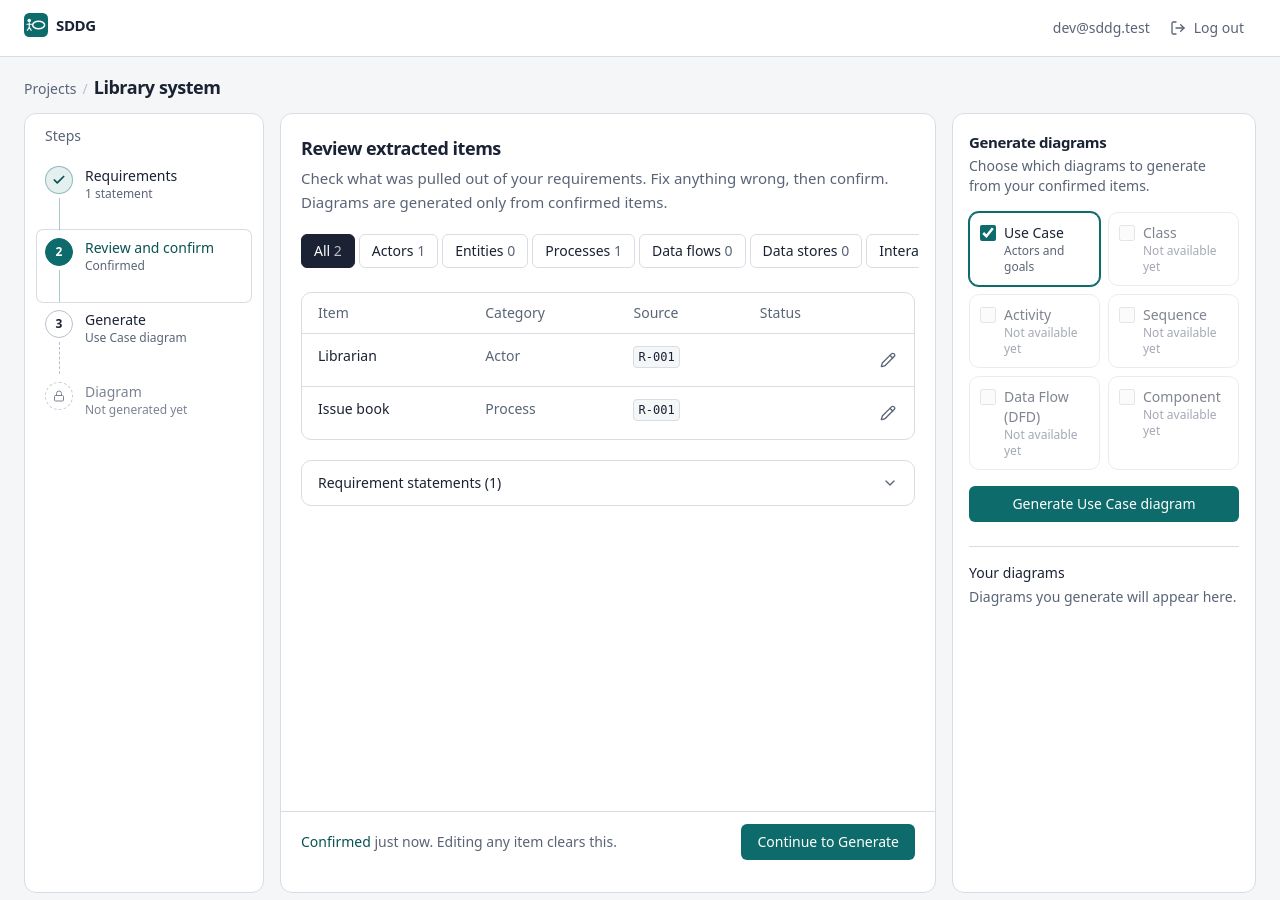
FR5b / FR5e review › editing an item marks it user-edited and clears the confirmation
Expected: the button "Continue to Generate" is shown, [741, 824, 915, 860]
Click the button named "Edit Librarian" at {"x": 888, "y": 360}, box [870, 342, 906, 378]
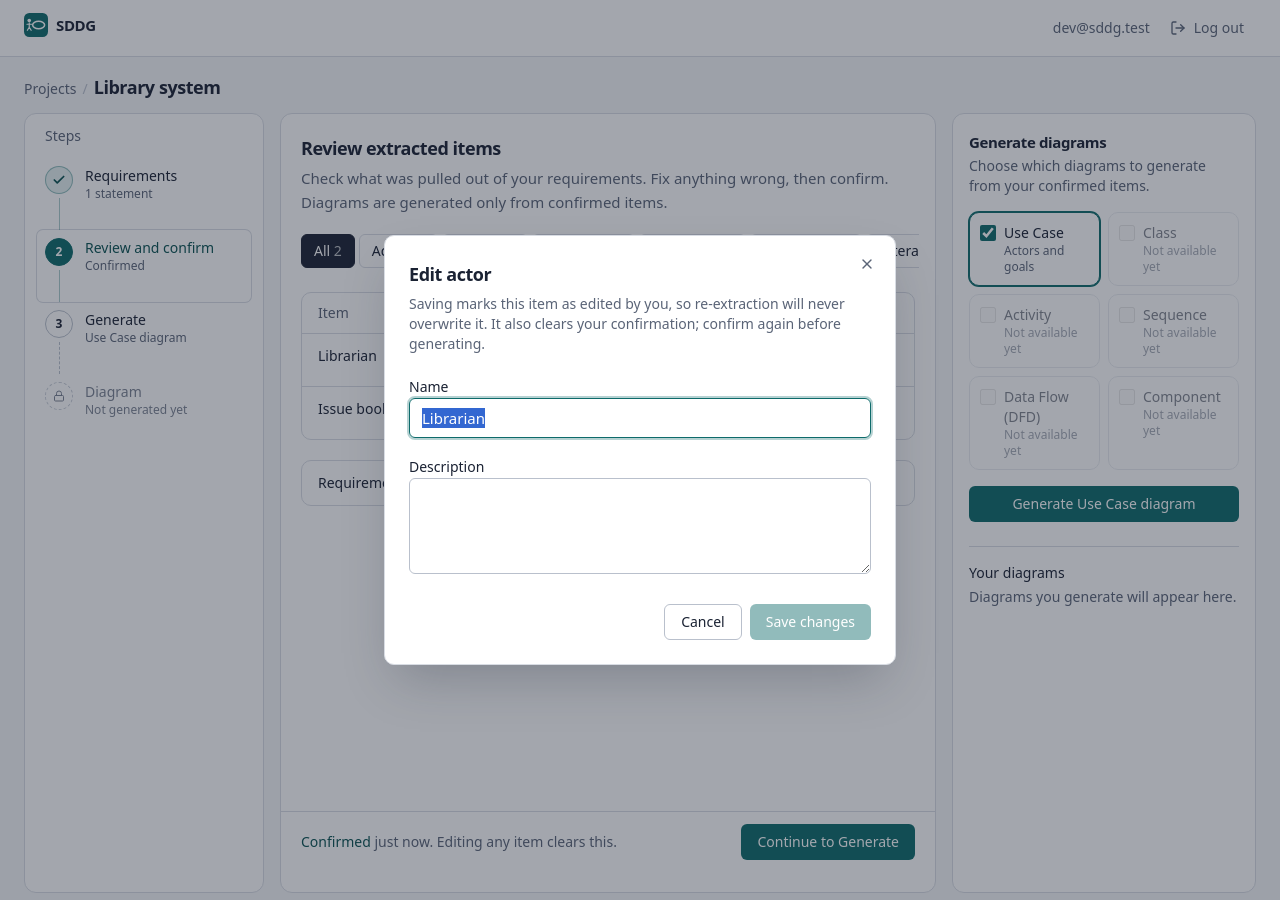
Clear the field labelled "Name" at {"x": 640, "y": 418}, box [409, 398, 871, 438]
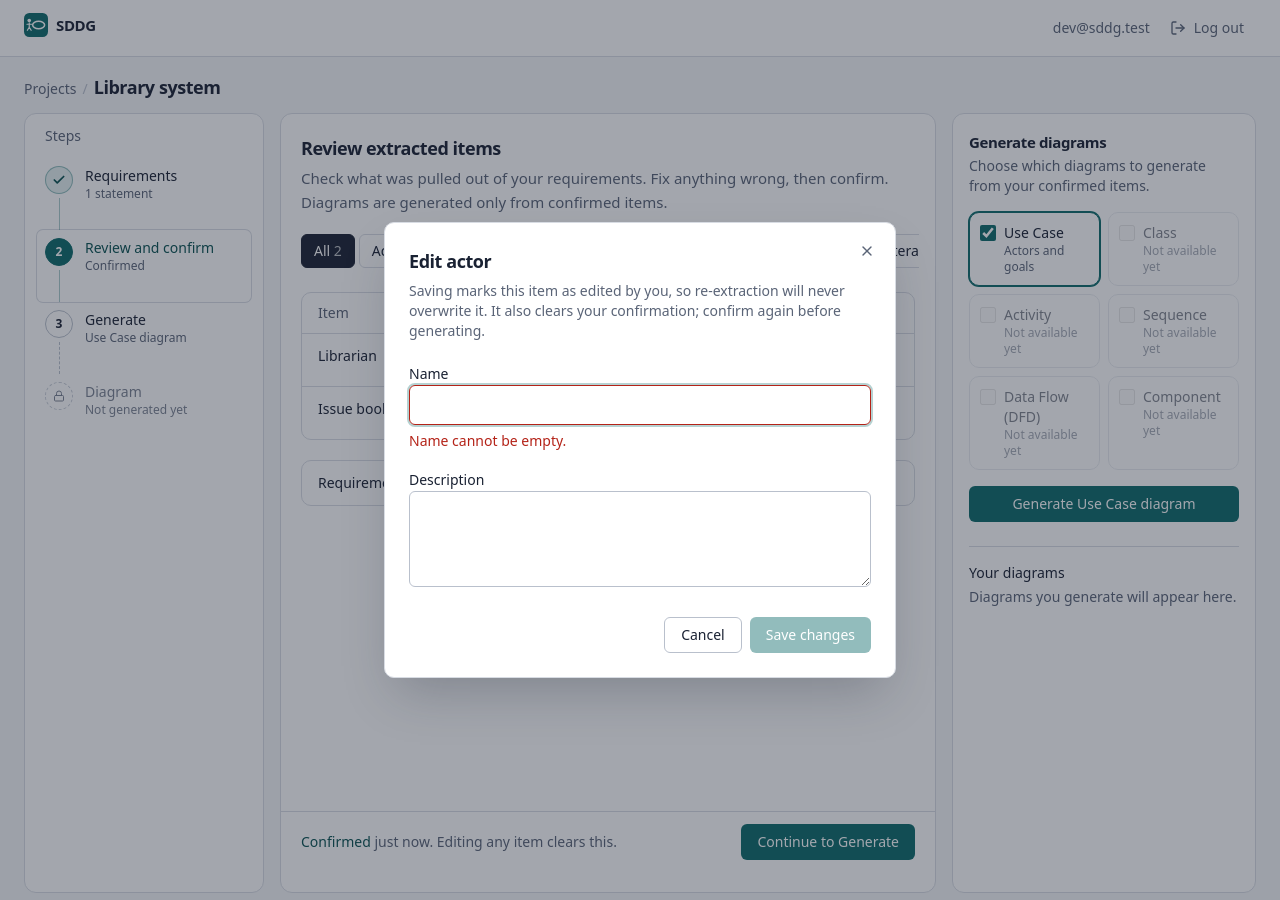
Type "Head librarian" into the field labelled "Name" at {"x": 640, "y": 405}, box [409, 385, 871, 425]
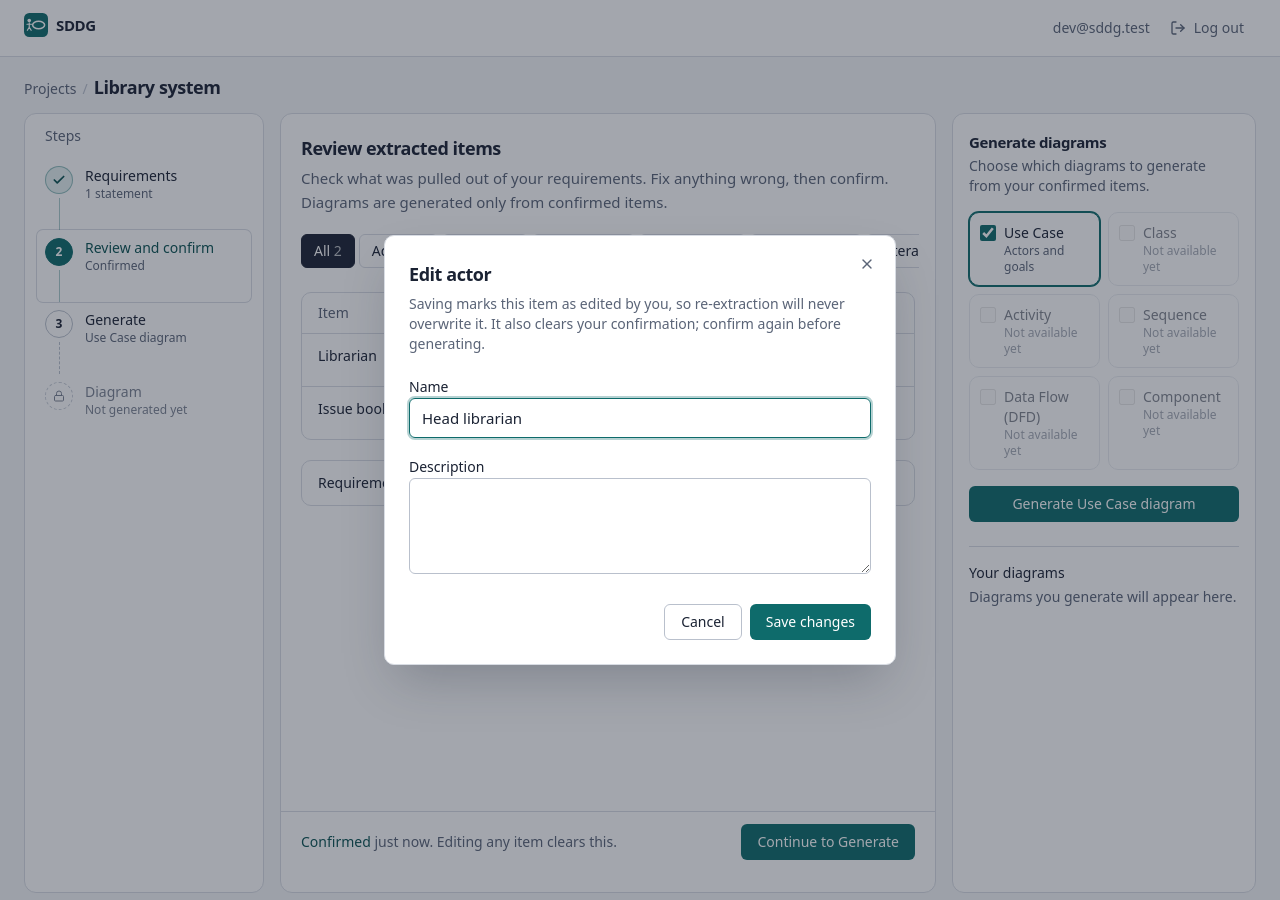
Click the button "Save changes" at {"x": 810, "y": 622}, box [750, 604, 871, 640]
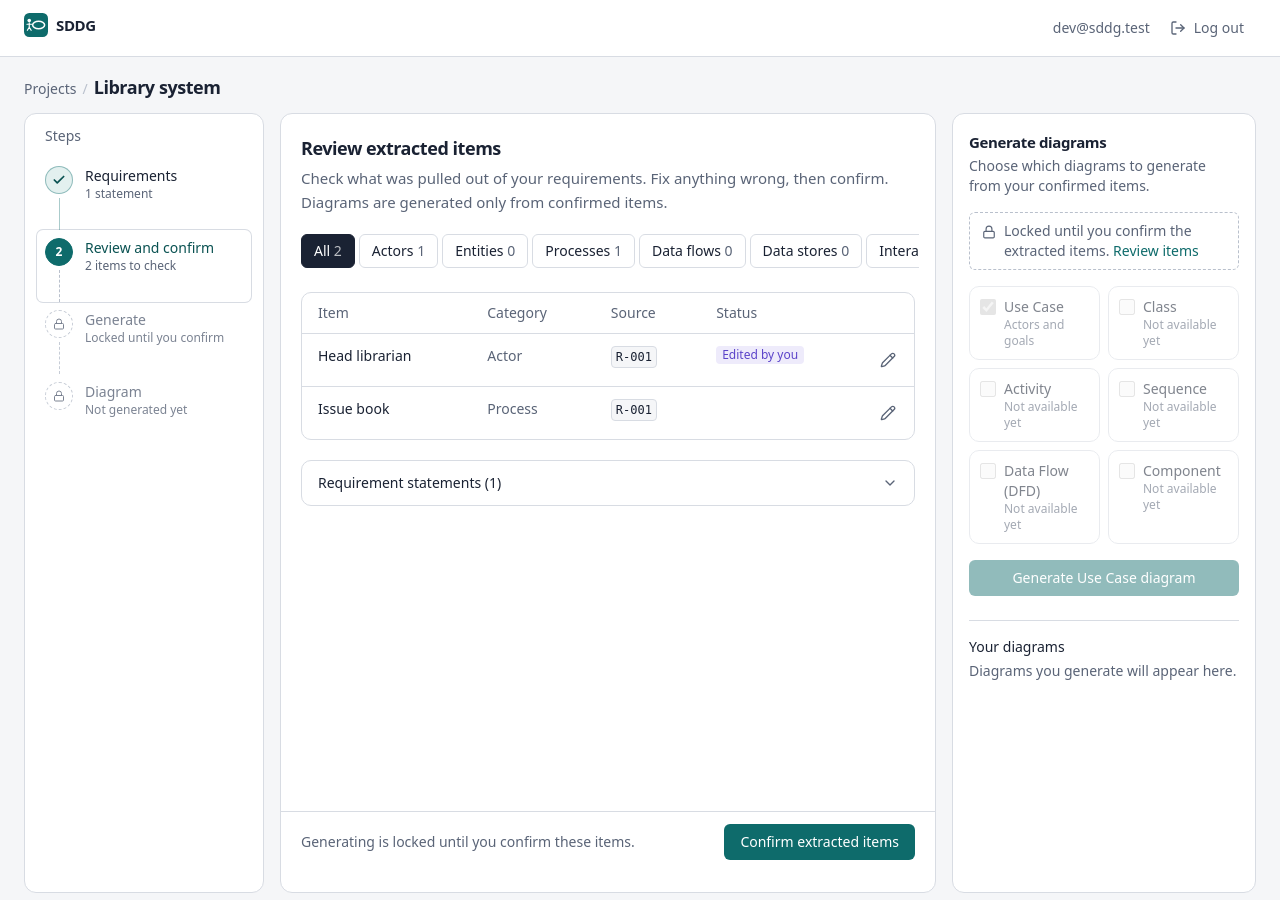
Now the text "Edited by you" is shown, box [716, 346, 804, 364]
Now the text "Head librarian" is shown, box [318, 346, 412, 365]
Now the button "Confirm extracted items" is shown, box [724, 824, 915, 860]
